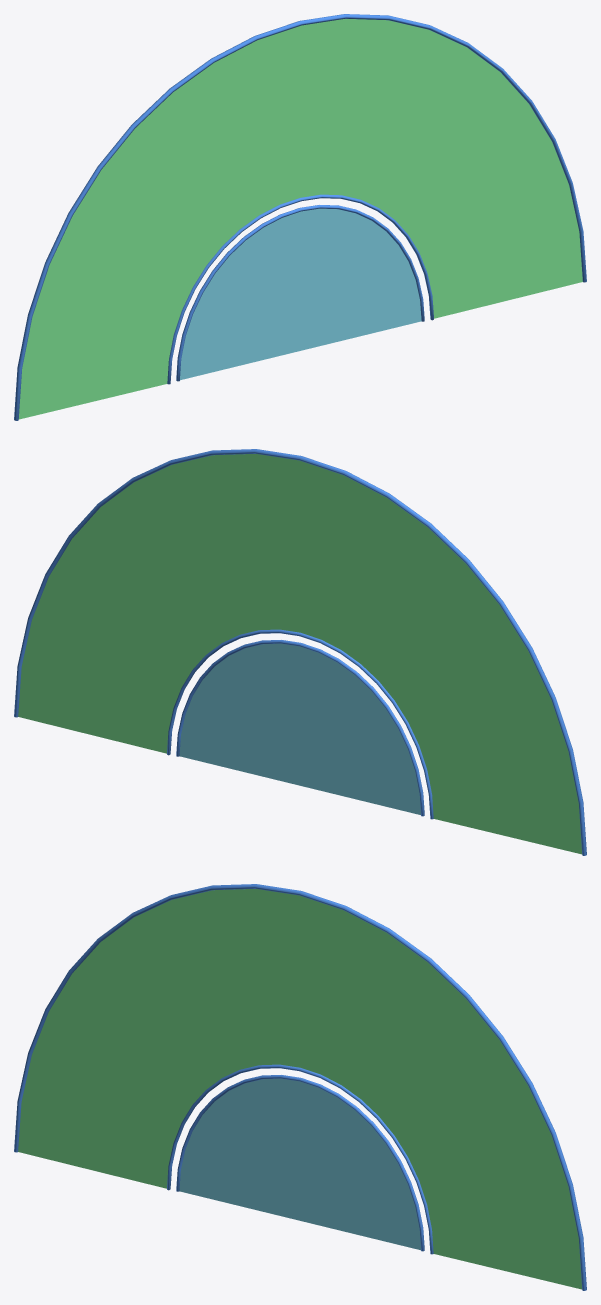
Rendered from NewGate.fbx.
3 renders of one model, top to bottom at view 1: azimuth 30°, elevation 25°; view 2: azimuth 150°, elevation 25°; view 3: azimuth 330°, elevation 25°, orthographic.
Visible parts, largest first — view 1: Thin_Gate; view 2: Thin_Gate; view 3: Thin_Gate.
Boxes of the visible parts, left/top/right/bottom form: Thin_Gate: left=14, top=14, right=586, bottom=420; Thin_Gate: left=14, top=449, right=586, bottom=855; Thin_Gate: left=14, top=884, right=586, bottom=1290.
Size of the model in its own units: 721 by 398 by 5.68.
